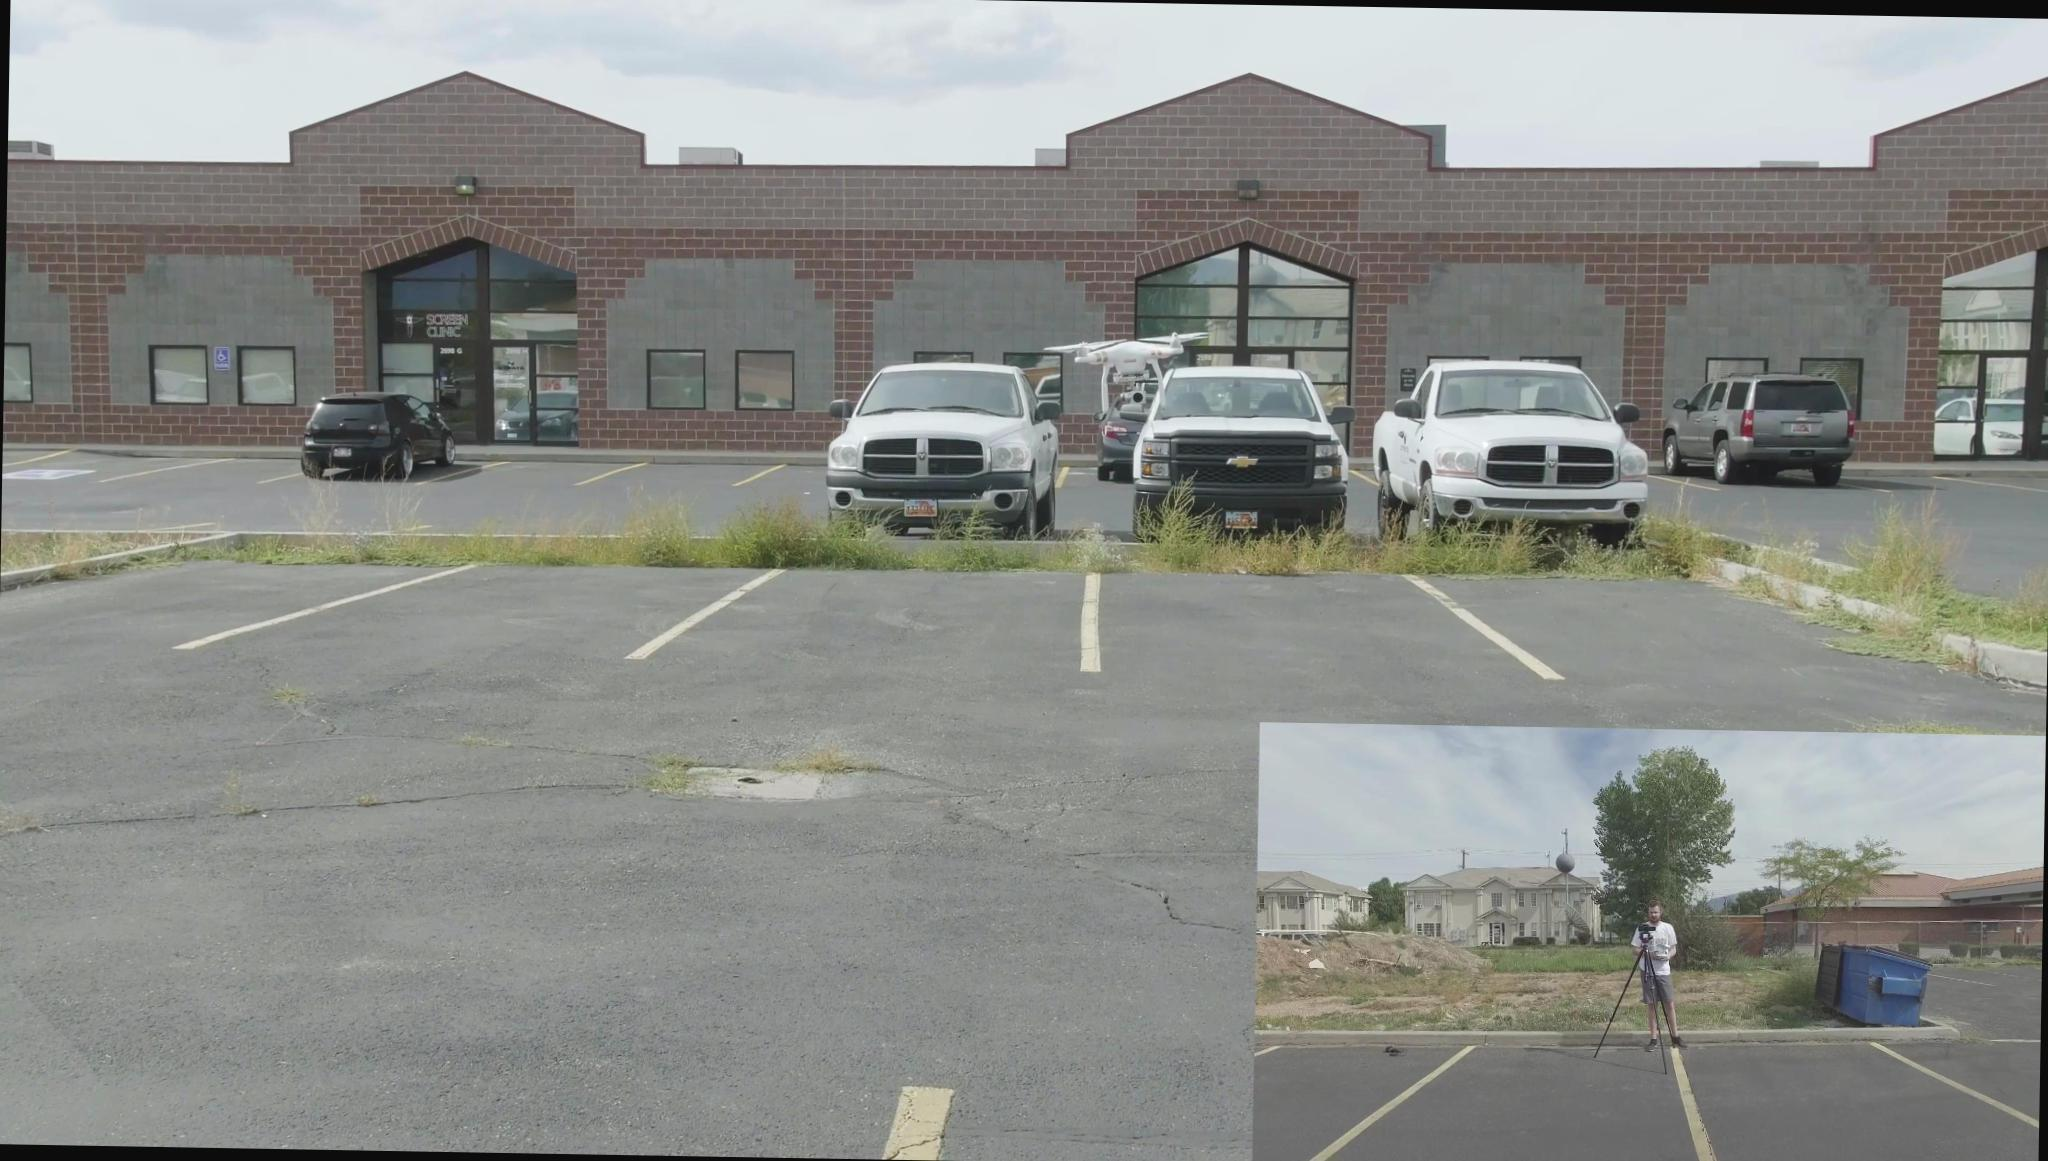drone: (1044, 329, 1211, 412)
